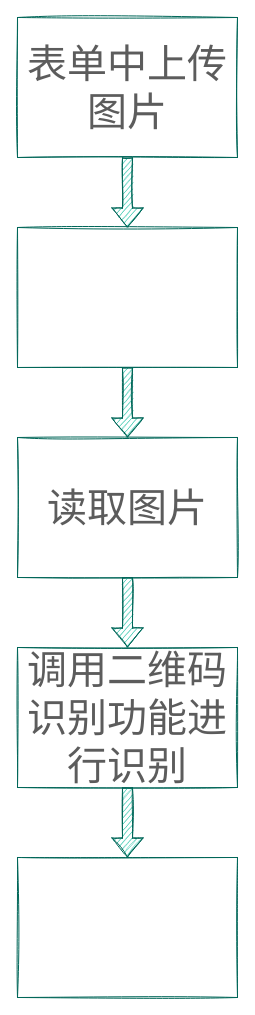
Some shapes in this 255 by 1015 pixel diagram are drawn without their labels. The shapes that lost their labels are listed below. From the top down, each one's box as (x1, y1, x2, y2) in pixels, then its label:
(16, 226, 238, 368): 识别图片地址
(16, 856, 238, 998): 重新写入表单
